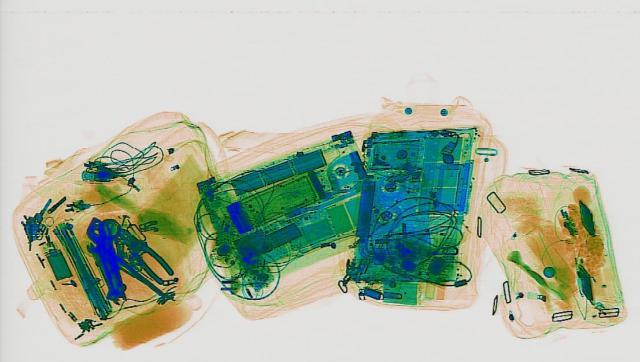Pliers: (105, 224, 182, 283)
Wrench: (81, 238, 132, 303)
